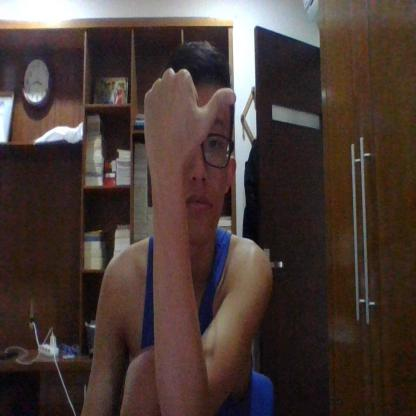left: (142, 66, 238, 169)
